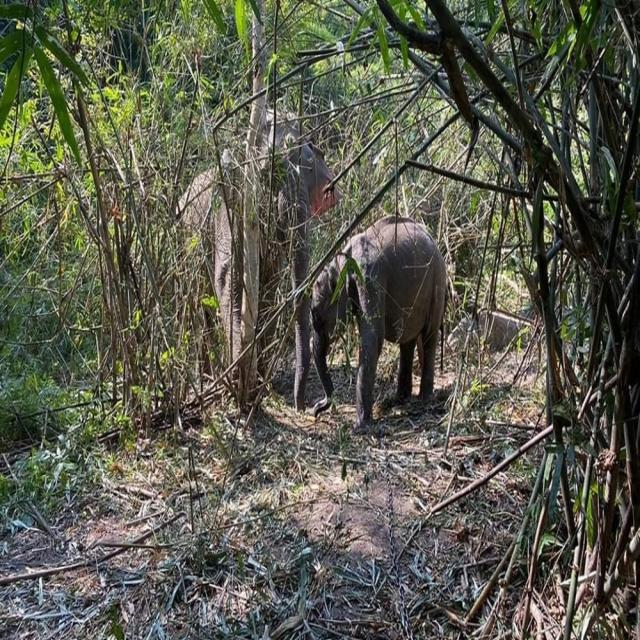Elephant: (160, 104, 332, 402), (296, 203, 470, 438)
